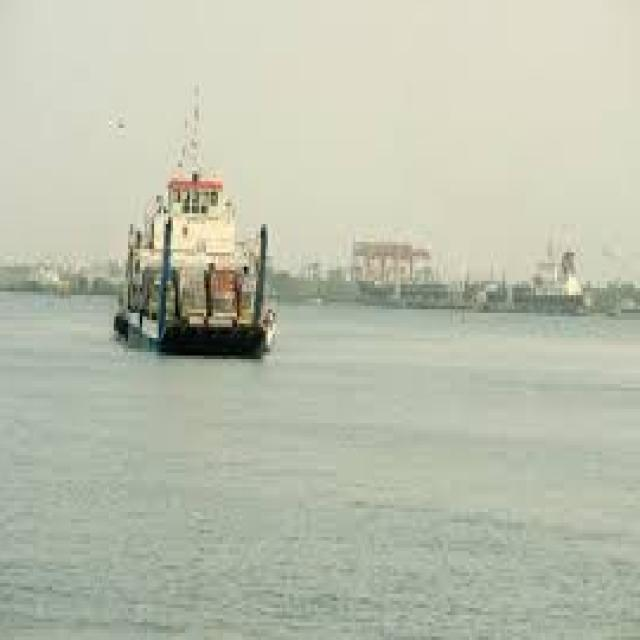houseboat: (103, 103, 286, 353)
